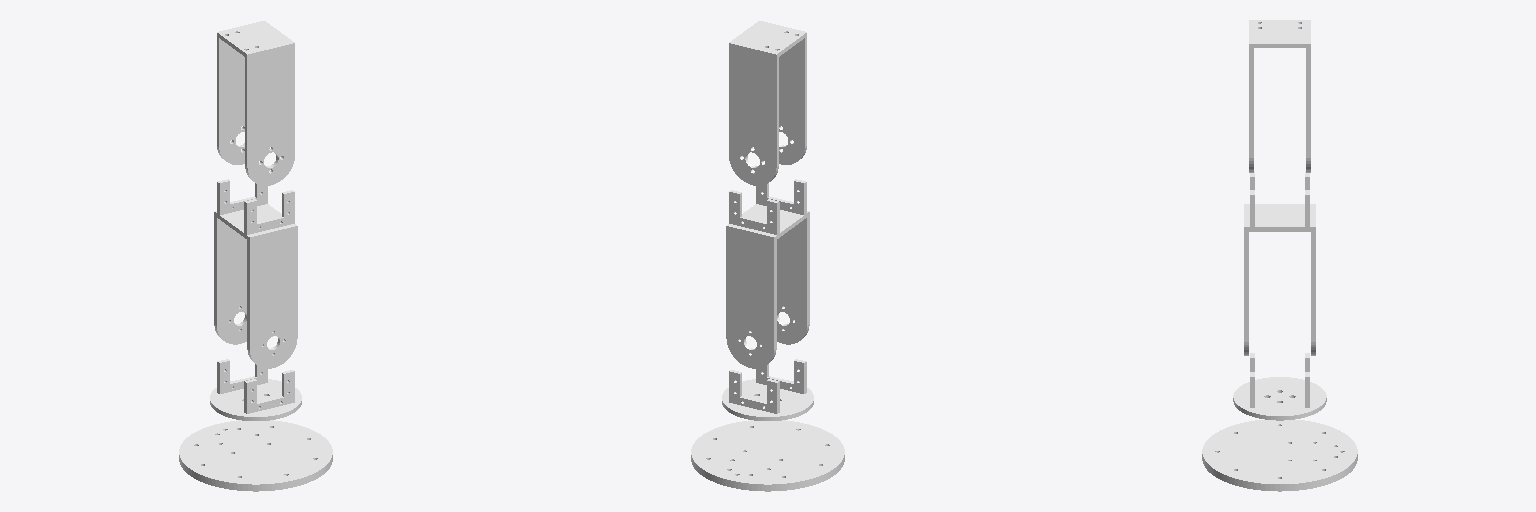
The robot description file, URDF, robot "yalim":
<?xml version="1.0"?>
<robot name="yalim">
  
  <material name="white">
    <color rgba="1 1 1 1"/>
  </material>
  
  <link name="world"/>
  
  <link name="base_link">
    <visual>
      <origin rpy="0 0 0" xyz="0 0 0"/>
        <geometry>
          <mesh filename="package://yalim_robot_description/meshes/base-binary.stl" scale="0.001 0.001 0.001"/>
        </geometry>
        <material name="white"/>
    </visual>
  </link>
  
  <joint name="fixed" type="fixed">
    <parent link="world"/>
    <child link="base_link"/>
  </joint>
  
  <joint name="torso" type="continuous">
    <parent link="base_link"/>
    <child link="torso"/>
    <origin rpy="0 0 0" xyz="0 0 0.04"/>
    <axis xyz="0 0 1"/>
  </joint>
  
  <link name="torso">
    <visual>
      <origin rpy="0 0 0" xyz="0 0 0"/>
        <geometry>
          <mesh filename="package://yalim_robot_description/meshes/turn_table-binary.stl" scale="0.001 0.001 0.001"/>
        </geometry>
        <material name="white"/>
    </visual>
  </link>
    
    <joint name="elbow" type="continuous">
      <parent link="torso"/>
      <child link="elbow"/>
      <origin rpy="0 0 0" xyz="0 0 0.05"/>
      <axis xyz="0 1 0"/>
    </joint>
    
    <link name="elbow">
      <visual>
        <origin rpy="0 -1.57 0" xyz="0 0 0.04"/>
        <geometry>
          <mesh filename="package://yalim_robot_description/meshes/link1-binary.stl" scale="0.001 0.001 0.001"/>
        </geometry>
        <material name="white"/>
      </visual>
    </link>

    <joint name="wrist" type="continuous">
      <parent link="elbow"/>
      <child link="wrist"/>
      <origin rpy="0 0 0" xyz="0 0 0.13"/>
      <axis xyz="0 1 0"/>
    </joint>
    
    <link name="wrist">
      <visual>
        <origin rpy="0 -1.57 0" xyz="0 0 0.04"/>
        <geometry>
          <mesh filename="package://yalim_robot_description/meshes/link2-binary.stl" scale="0.001 0.001 0.001"/>
        </geometry>
        <material name="white"/>
      </visual>
    </link>



</robot>

--- Render facts (derived) ---
Views: 3 orthographic renders of the robot side by side, from view 1: azimuth 30°, elevation 25°; view 2: azimuth 150°, elevation 25°; view 3: azimuth 270°, elevation 25°.
Model yalim with 5 links and 4 joints (3 continuous, 1 fixed), rooted at world, posed all joints at 0.
Visible links, largest first — view 1: elbow, wrist, base_link, torso; view 2: elbow, wrist, base_link, torso; view 3: base_link, elbow, torso, wrist.
Link boxes in pixels (x1,y1,x2,y2): elbow: (214, 179, 297, 368); wrist: (217, 21, 294, 185); base_link: (179, 420, 332, 491); torso: (210, 359, 301, 420); elbow: (726, 179, 809, 368); wrist: (729, 21, 806, 185); base_link: (691, 420, 844, 491); torso: (722, 359, 813, 420); base_link: (1202, 419, 1357, 491); elbow: (1244, 171, 1315, 355); torso: (1233, 353, 1326, 420); wrist: (1249, 20, 1310, 172).
Bounding box of the posed robot: 0.1 × 0.1 × 0.3025 m (x, y, z).
4 mesh visuals loaded from 4 distinct referenced files (4 binary STL).